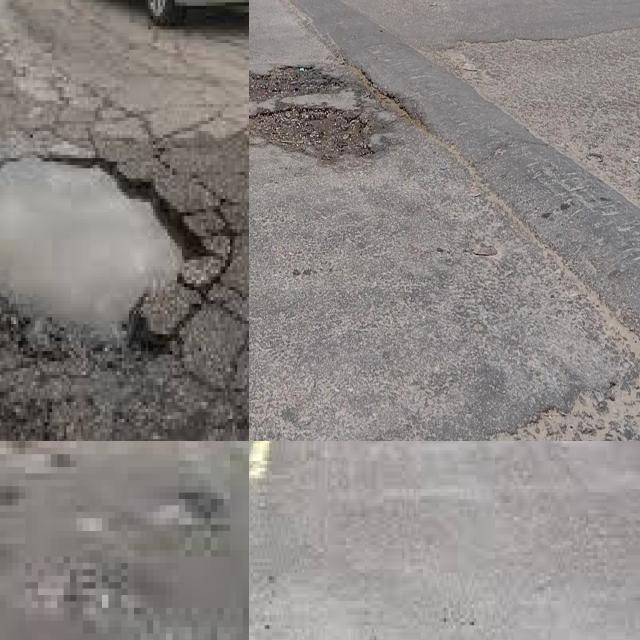Pothole: (0, 155, 204, 331), (249, 102, 375, 161), (38, 550, 134, 621), (166, 473, 224, 563), (249, 61, 343, 106), (185, 589, 224, 640)
